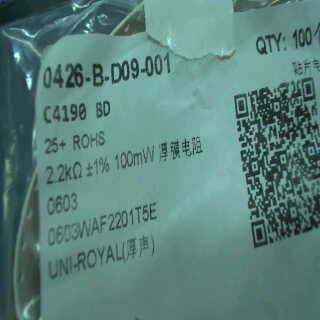2.2kR: (41, 161, 87, 181)
